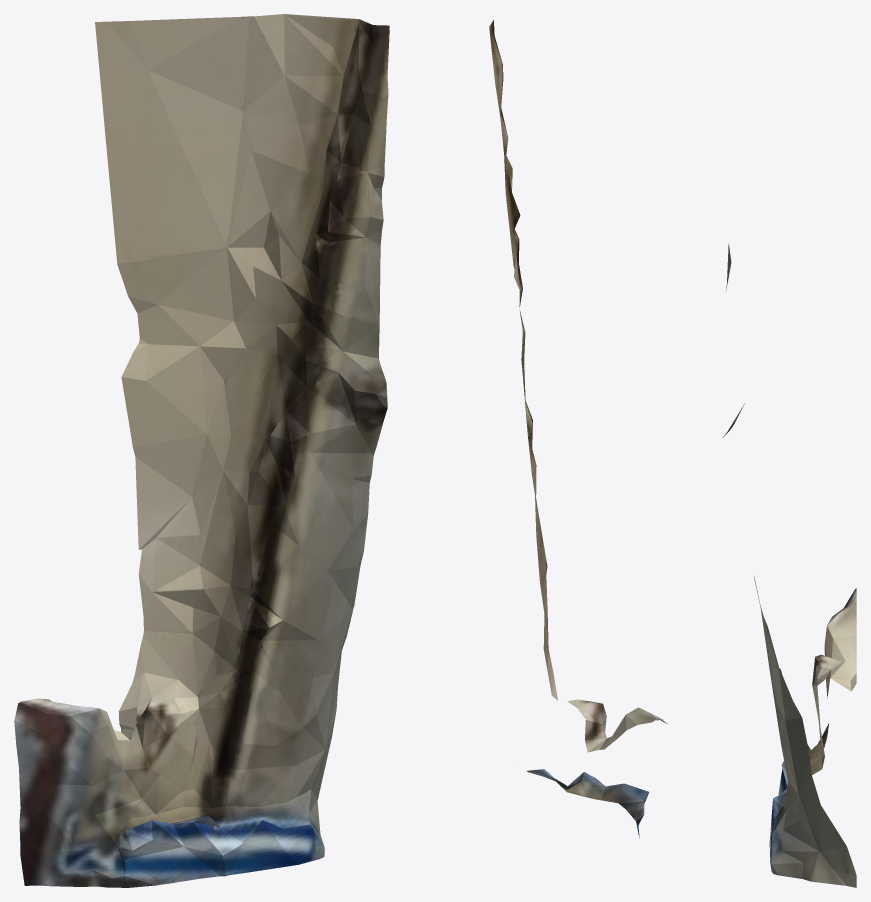
3 views of the same model, side by side, from view 1: azimuth 30°, elevation 25°; view 2: azimuth 150°, elevation 25°; view 3: azimuth 270°, elevation 25° (orthographic). The views are drawn at different scales.
Size of the model in its own units: 1.23 by 3.35 by 0.5545.
1 material, 1 textured.
